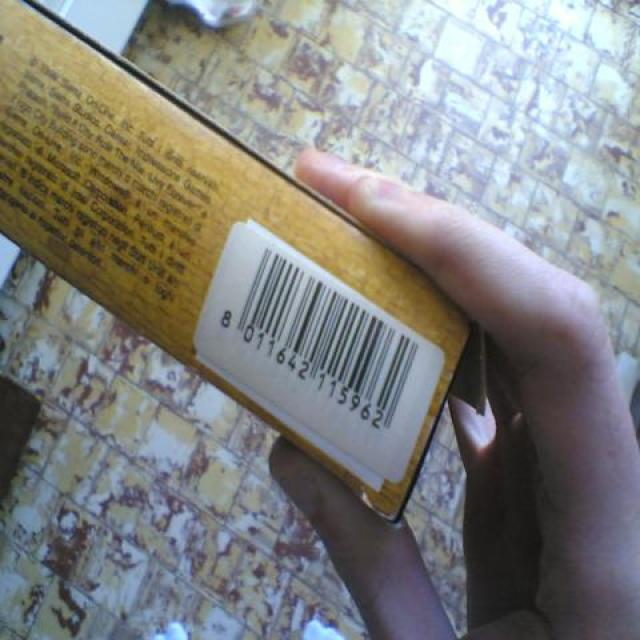Barcode: (201, 227, 440, 470)
